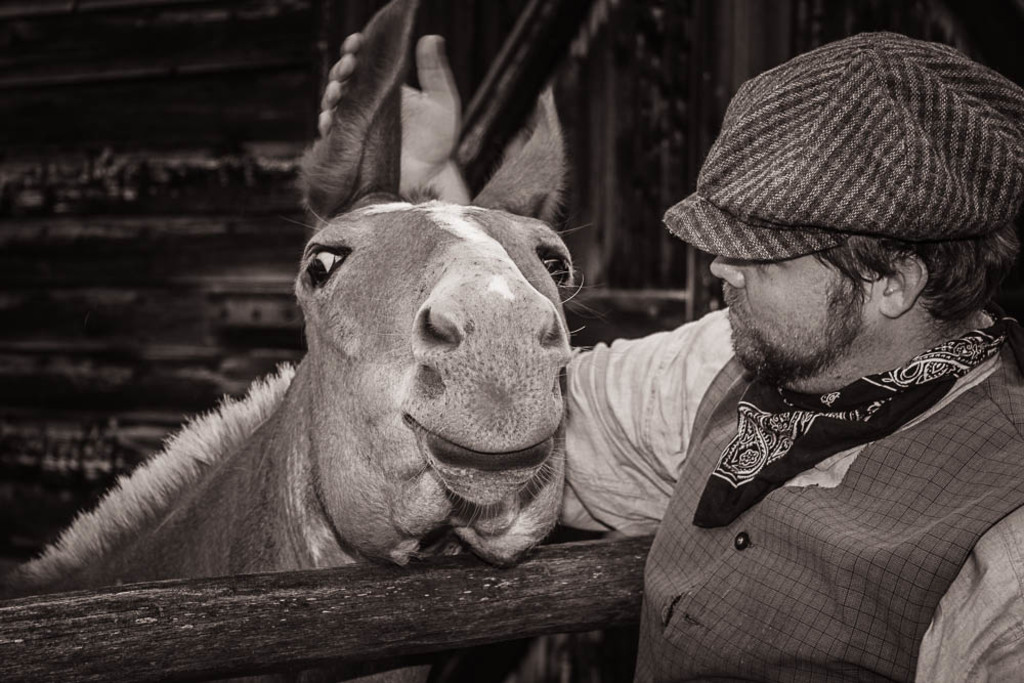Animal: (0, 0, 604, 600)
